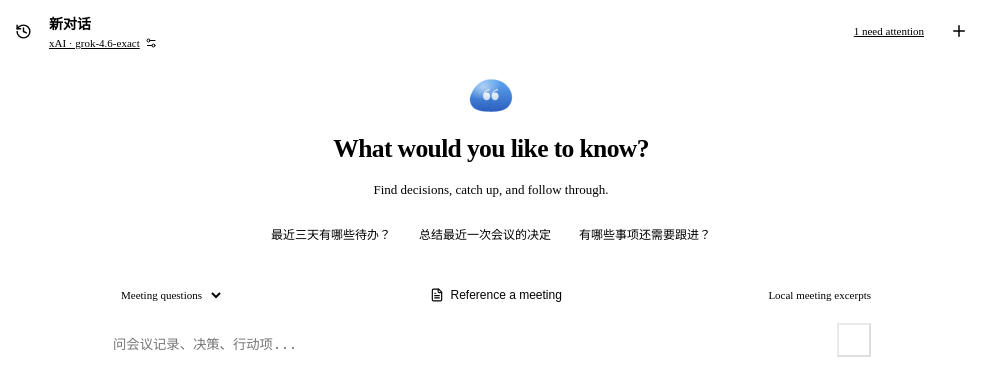
AgentConsole › localizes the xAI privacy boundary and empty local result without a source card
In the text box with placeholder "问会议记录、决策、行动项...": [470, 345] box top-left (111, 333), bottom-right (829, 357), type "missing"
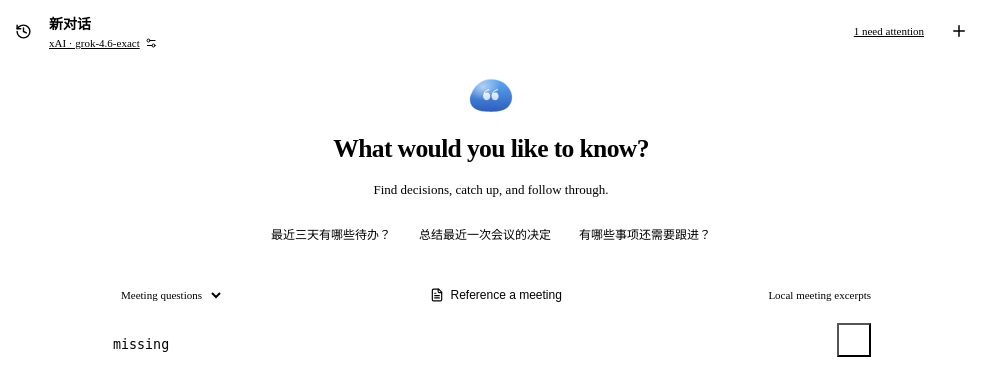
Click the button named "发送": [854, 340] box top-left (837, 323), bottom-right (871, 357)
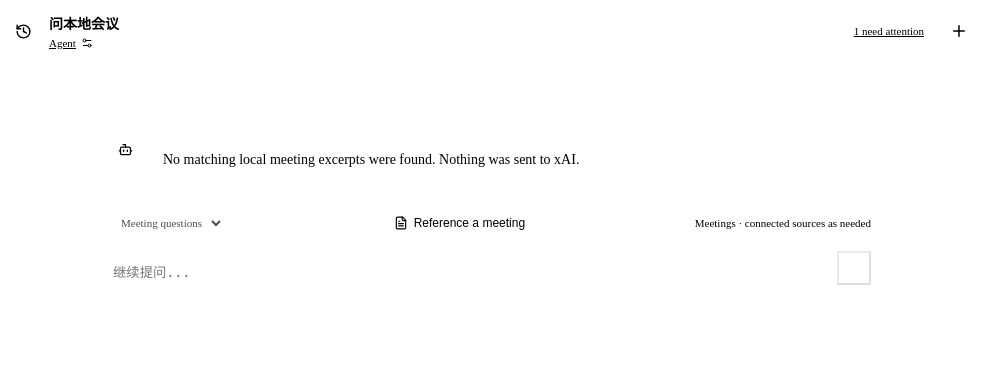
Now the text "No matching local meeting excerpts were found. Nothing was sent to xAI." is shown, box top-left (163, 148), bottom-right (579, 173)
